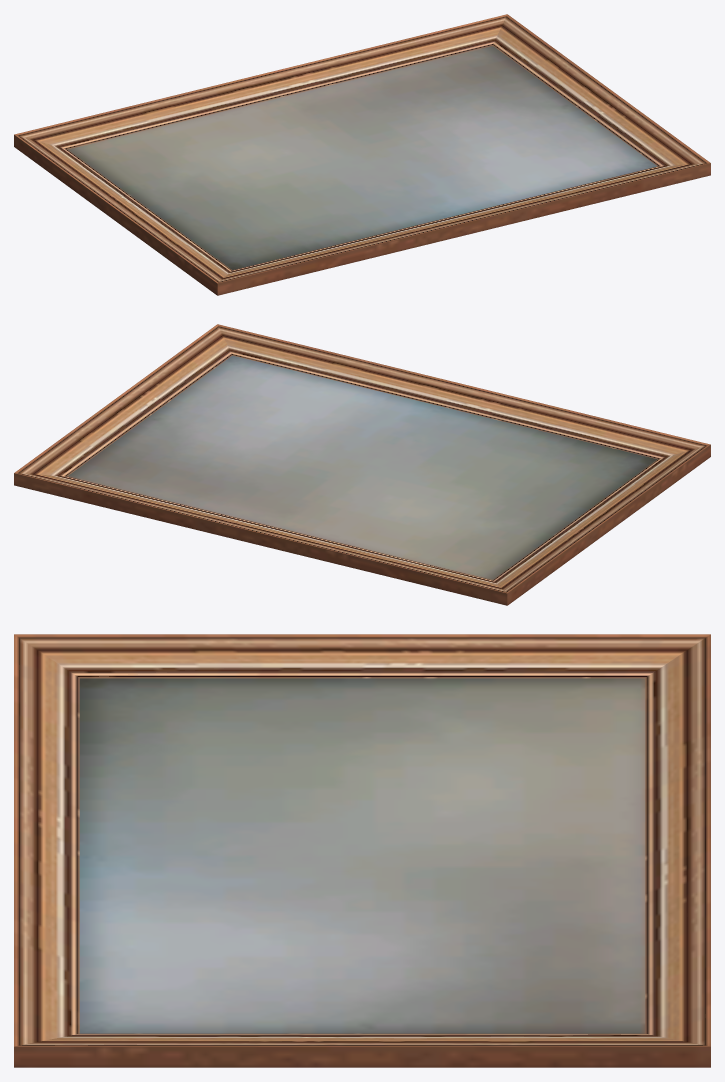
Rendered from mirrorlarge.fbx.
The picture shows the model from 3 angles, top to bottom: view 1: azimuth 30°, elevation 25°; view 2: azimuth 150°, elevation 25°; view 3: azimuth 270°, elevation 25°; orthographic projection. The views are drawn at different scales.
Parts seen in each view (by area): view 1: mesh_0; view 2: mesh_0; view 3: mesh_0.
Part boxes in pixels (x1,y1,x2,y2): mesh_0: (14,14,710,295); mesh_0: (14,324,710,605); mesh_0: (14,634,710,1067).
Size of the model in its own units: 140 by 3.33 by 100.
Materials: 1 (1 with a texture image).
